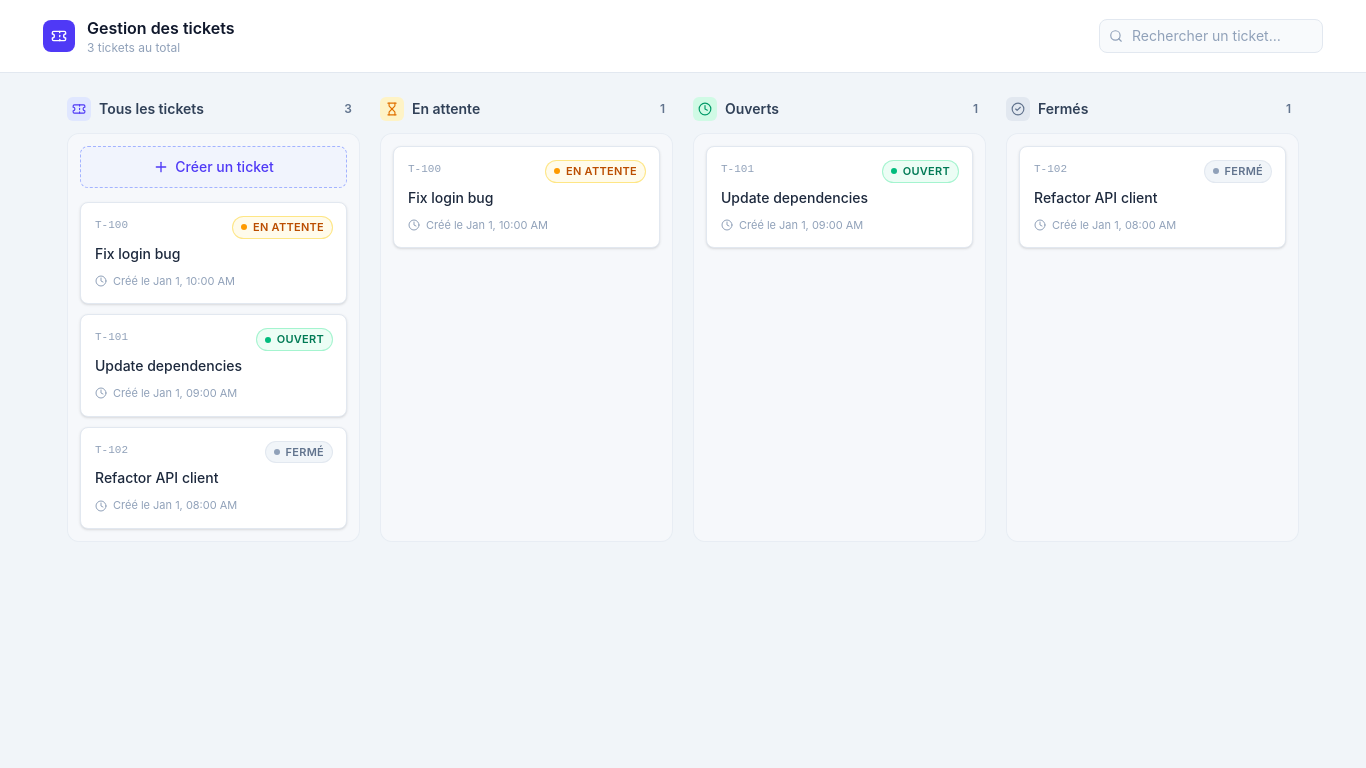
it: TicketBoard (integration) › creates a ticket end-to-end: opens modal, submits, and shows it in the board
The width and height of the screenshot is (1366, 768).
Expected: the text "Fix login bug" below "Tous les tickets" is shown, [95, 244, 180, 262]
Click the button "Créer un ticket" at {"x": 214, "y": 167}, box [80, 146, 347, 188]
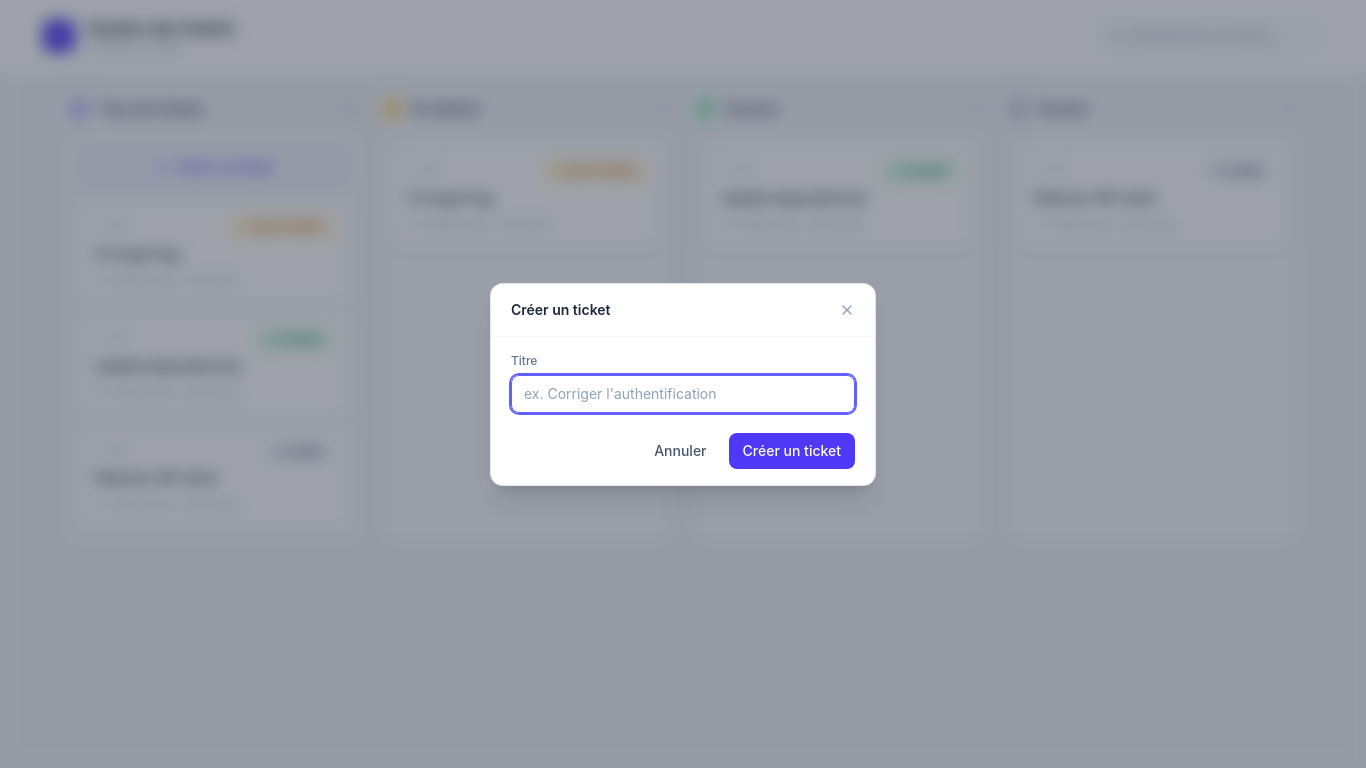
Type "New integration ticket" into the field labelled "Titre" at {"x": 683, "y": 394}, box [511, 374, 855, 412]
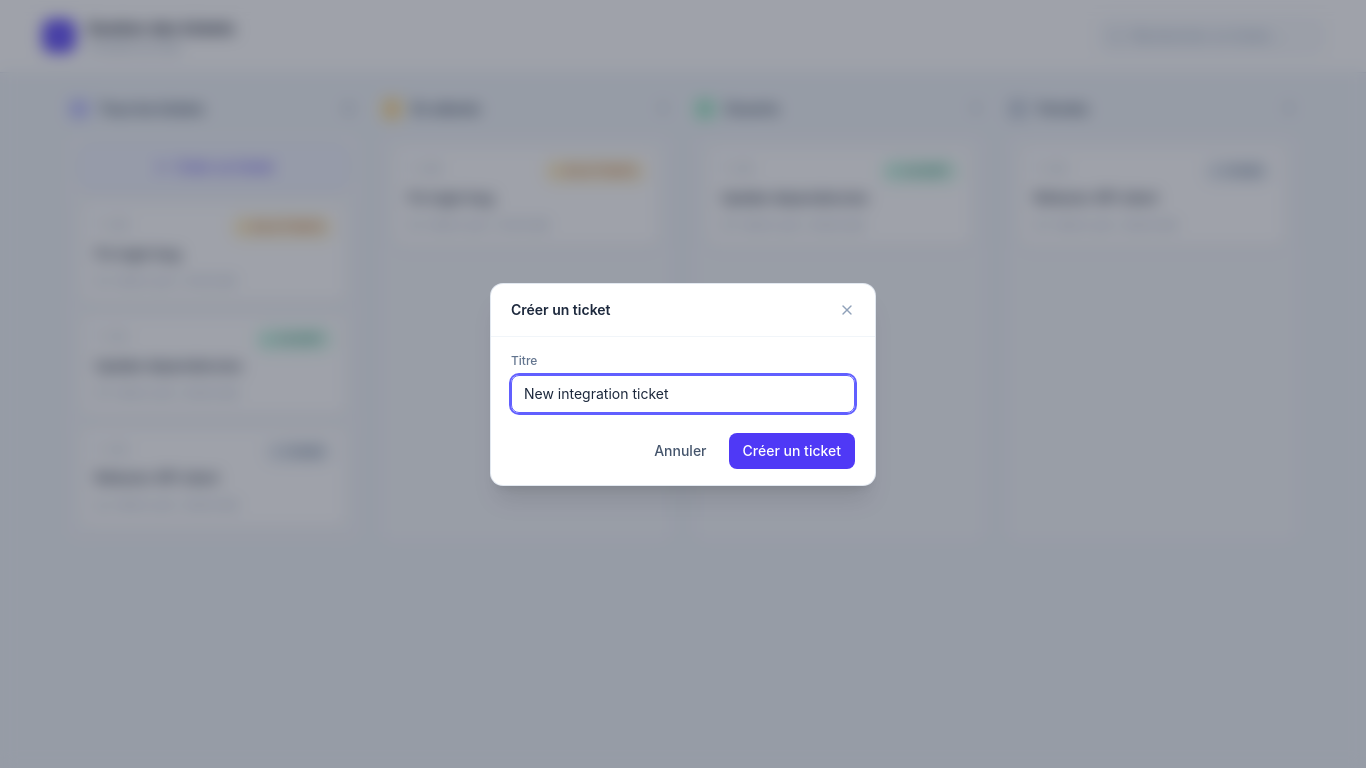
Click the button with test id "submit-create-ticket" at {"x": 792, "y": 450}, box [728, 432, 855, 468]
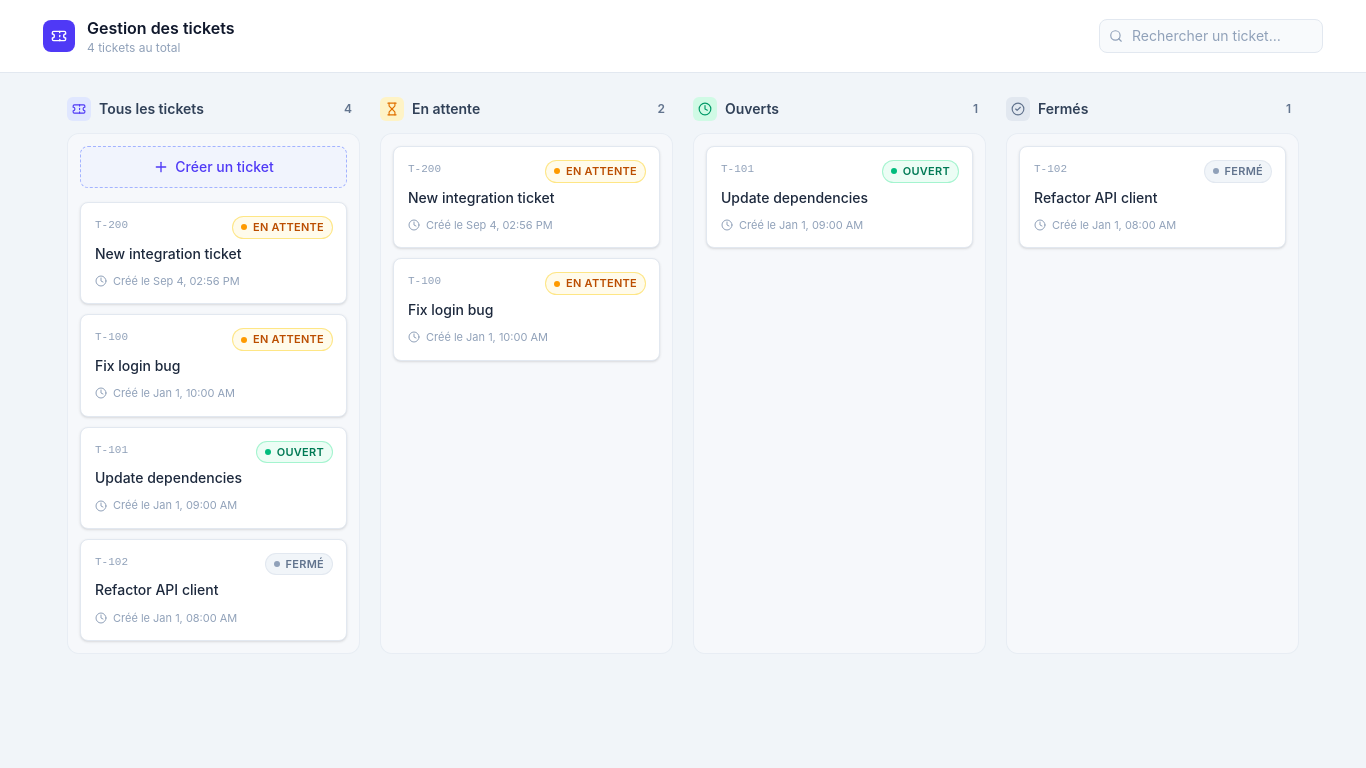
Expected: the text "New integration ticket" below "Tous les tickets" is shown, [95, 244, 242, 262]
